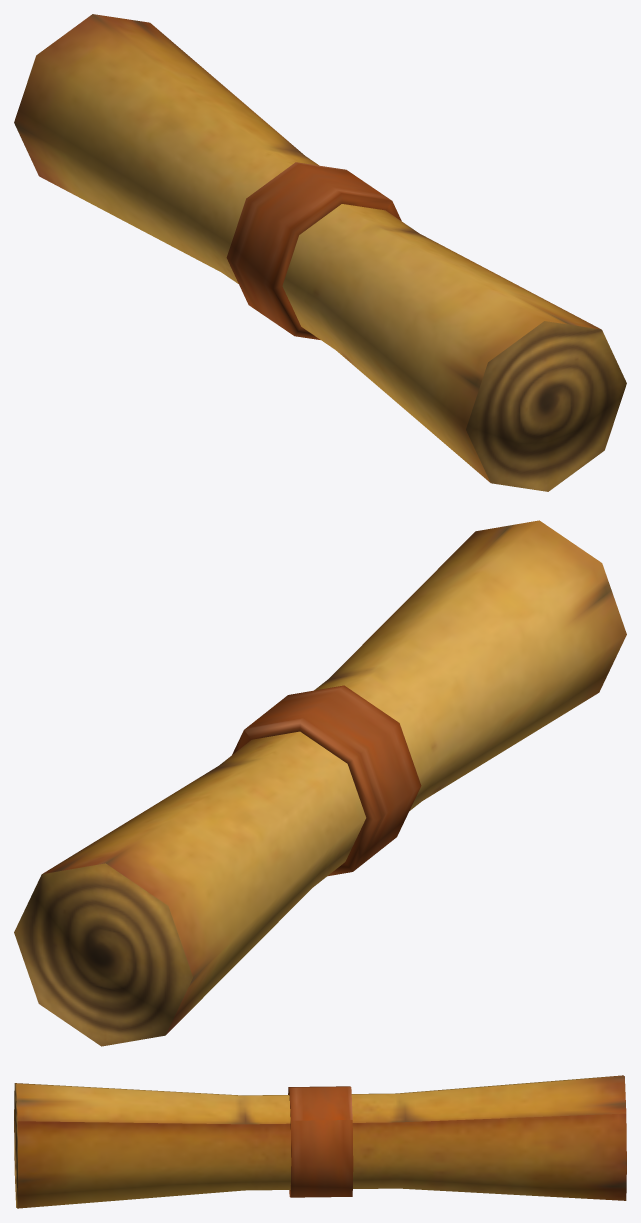
File: roll_small_006.fbx
3 renders of one model, top to bottom at view 1: azimuth 30°, elevation 25°; view 2: azimuth 150°, elevation 25°; view 3: azimuth 270°, elevation 25°, orthographic. The views are drawn at different scales.
Visible parts, largest first — view 1: roll; view 2: roll; view 3: roll.
Part boxes in pixels (left/top/right/bottom): roll: left=14, top=14, right=626, bottom=491; roll: left=14, top=520, right=626, bottom=1046; roll: left=14, top=1075, right=626, bottom=1208.
Bounding box in the file's own units: 5.47 × 4.81 × 21.78.
